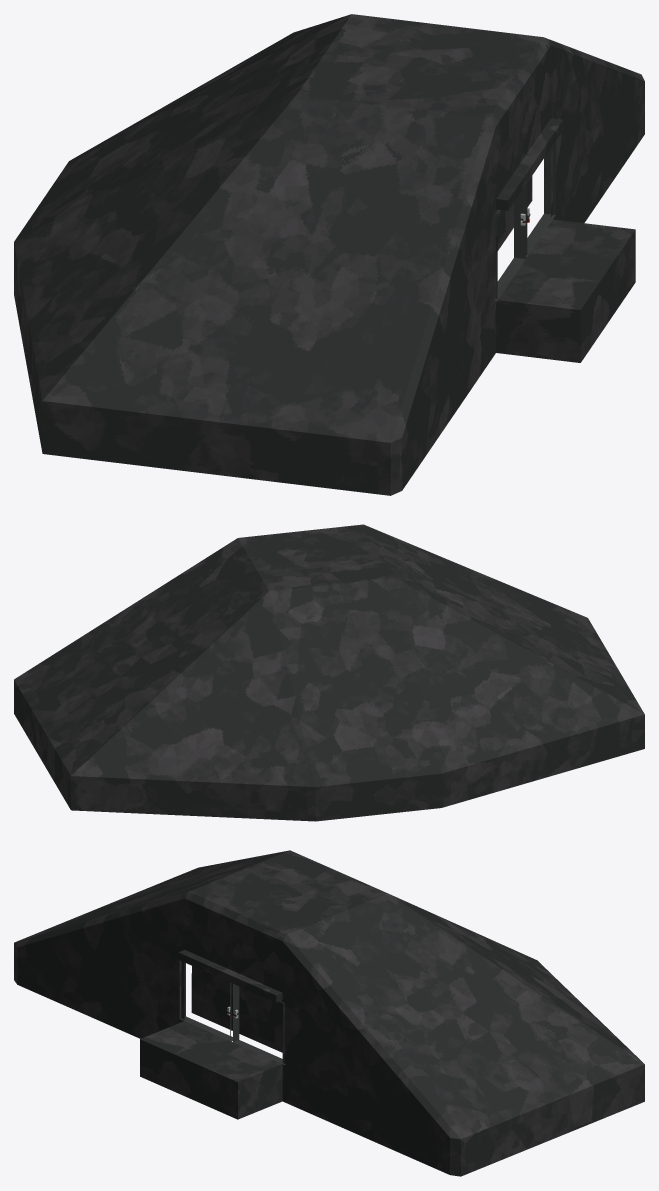
Rendered from Bunker Export.glb.
3 renders of one model, top to bottom at view 1: azimuth 30°, elevation 25°; view 2: azimuth 150°, elevation 25°; view 3: azimuth 270°, elevation 25°, orthographic. The views are drawn at different scales.
Visible parts, largest first — view 1: Plane.001; view 2: Plane.001; view 3: Plane.001.
Boxes of the visible parts, x1,y1,x2,y2 form: Plane.001: (14, 14, 644, 495); Plane.001: (14, 524, 644, 821); Plane.001: (14, 850, 644, 1176).
Size of the model in its own units: 122 by 35.03 by 121.
Materials: 1 (1 with a texture image).
